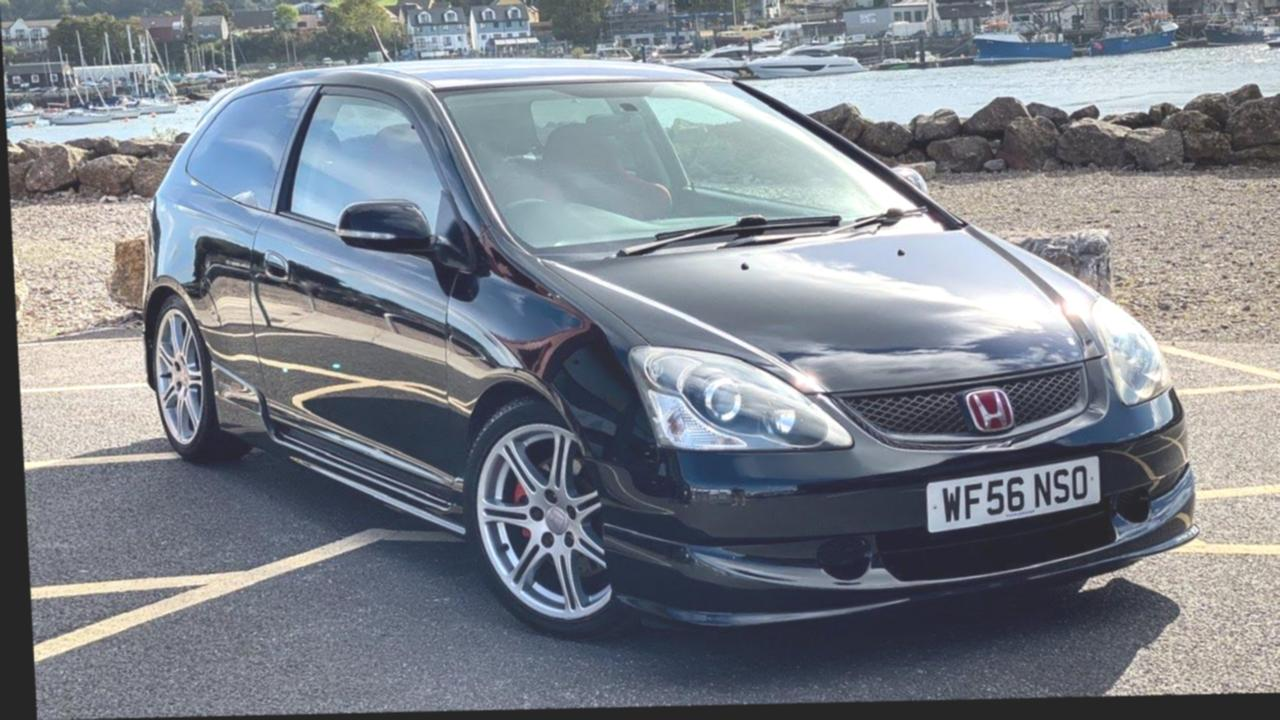License_Plate: (914, 449, 1113, 543)
